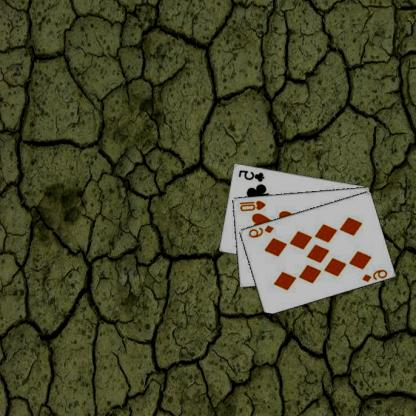10H: (239, 198, 268, 212)
5C: (238, 168, 267, 182)
9D: (247, 222, 276, 239), (361, 267, 390, 283)
